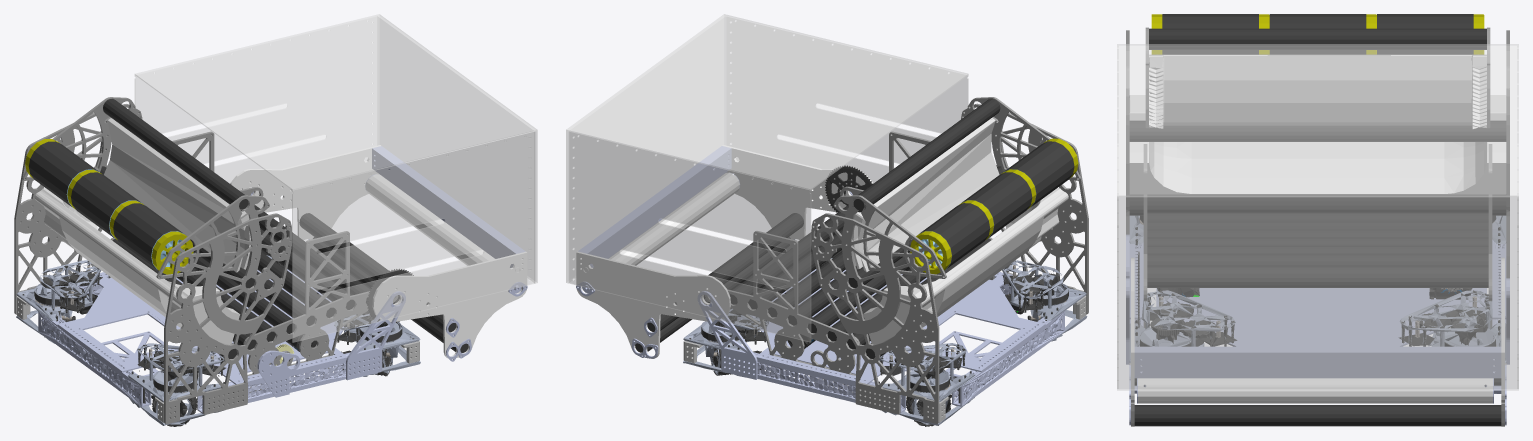
File: robot_team8.glb
3 renders of one model, left to right at view 1: azimuth 30°, elevation 25°; view 2: azimuth 150°, elevation 25°; view 3: azimuth 270°, elevation 25°, orthographic. The views are drawn at different scales.
Parts seen in each view (by area): view 1: clear_15, body_6, body_9, body_14, body_3, hood_16, hood_20, body_12, body_7, body_4, hood_18, hood_19 (+1 smaller); view 2: clear_15, body_6, body_9, body_14, body_3, hood_16, hood_20, body_12, body_7, body_4, hood_18, hood_19 (+1 smaller); view 3: clear_15, body_3, body_9, hood_20, body_12, hood_16, body_14, body_7, body_6, body_4, hood_19, hood_18.
Boxes of the visible parts, x1,y1,x2,y2 form: clear_15: (134,14,537,342); body_6: (14,104,398,424); body_9: (38,146,527,413); body_14: (147,145,527,393); body_3: (60,166,468,375); hood_16: (28,99,248,268); hood_20: (104,118,250,272); body_12: (34,188,240,344); body_7: (16,255,420,425); body_4: (22,250,414,426); hood_18: (22,97,269,279); hood_19: (25,139,193,274); clear_15: (566,14,968,342); body_6: (705,103,1088,423); body_9: (576,146,1064,413); body_14: (576,145,1015,358); body_3: (635,166,1044,375); hood_16: (853,98,1074,268); hood_20: (852,118,999,272); body_12: (863,188,1068,344); body_7: (683,258,1087,425); body_4: (689,165,1080,426); hood_18: (833,97,1080,278); hood_19: (910,138,1078,274); clear_15: (1117,44,1518,390); body_3: (1129,120,1506,426); body_9: (1126,234,1509,425); hood_20: (1149,54,1486,128); body_12: (1129,95,1506,194); hood_16: (1149,14,1486,54); body_14: (1131,257,1504,426); body_7: (1129,215,1506,393); body_6: (1126,30,1509,328); body_4: (1135,215,1500,346); hood_19: (1151,14,1484,54); hood_18: (1145,27,1490,128).
Bounding box in the file's own units: 0.9663 × 0.5636 × 0.7176.
